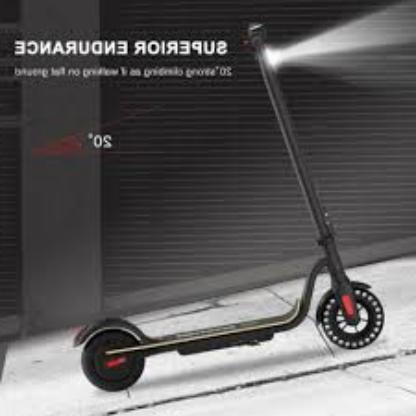bike: (67, 12, 386, 395)
